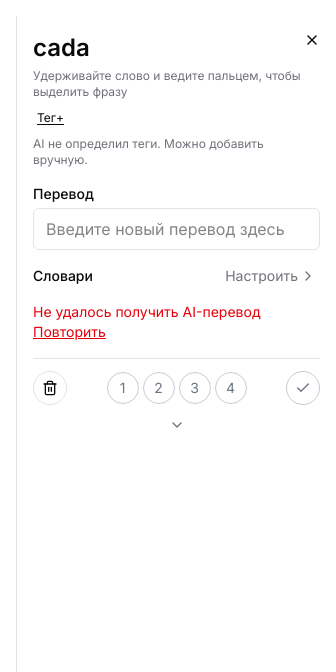
it: WordCard core › shows an inline error with retry on a real AI failure
Check: the text "Не удалось получить AI-перевод" is shown, box [33,303,260,320]
Step 1. Click the button "Повторить" → (69,332), box [33,322,106,342]
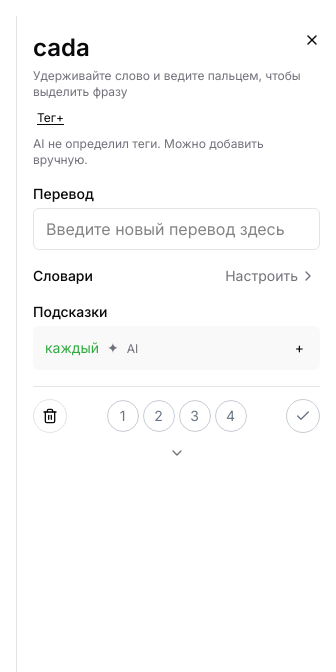
Check: the text "каждый" is shown, box [45,339,99,356]
